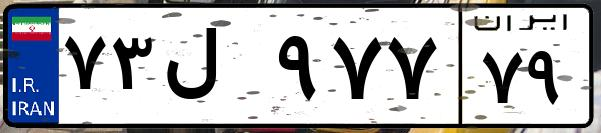3: (110, 28, 158, 98)
7: (385, 28, 445, 110), (330, 28, 385, 110), (57, 26, 110, 100), (475, 38, 525, 113)
9: (270, 28, 330, 110), (525, 38, 570, 115)
ل: (158, 20, 270, 120)
